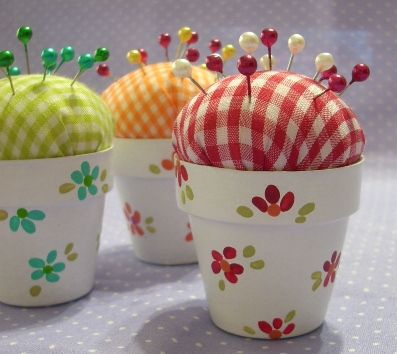flowerpot: (172, 153, 367, 338), (1, 145, 113, 306), (104, 137, 203, 265)
